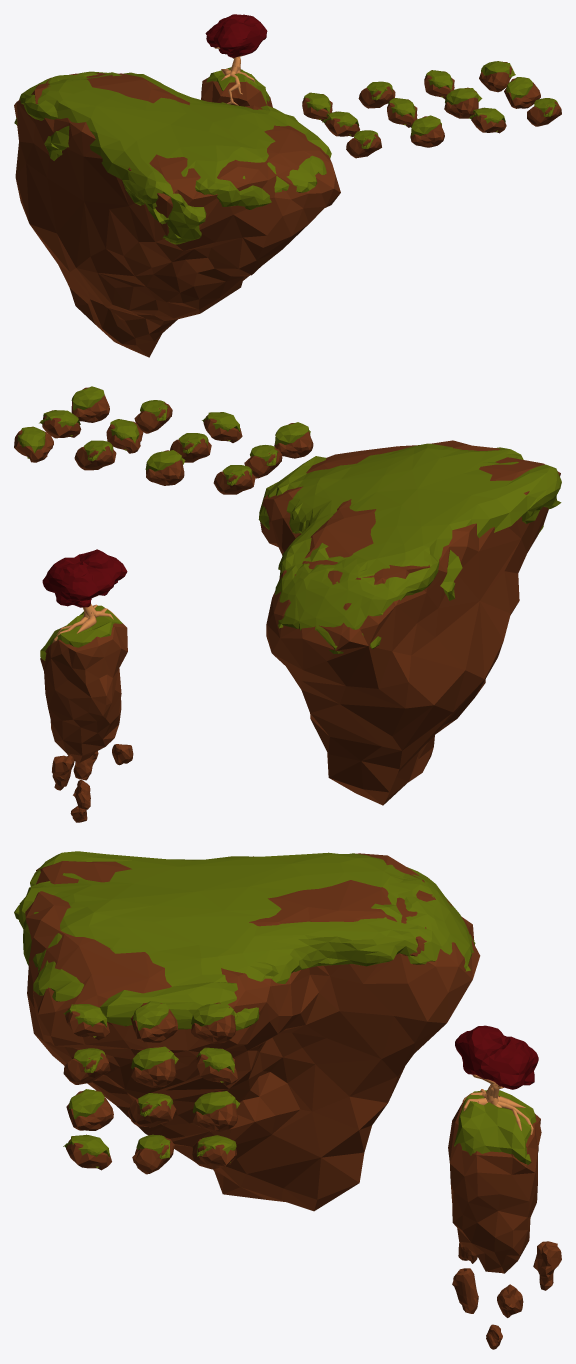
File: Due_Isola5.fbx
3 views of the same model, one above another, from view 1: azimuth 30°, elevation 25°; view 2: azimuth 150°, elevation 25°; view 3: azimuth 270°, elevation 25° (orthographic). The views are drawn at different scales.
Visible parts, largest first — view 1: Plane.033, Plane.032, Mball.013, Sphere.170, Sphere.169, Sphere.008, Sphere.012, Sphere.003, Sphere.020, Sphere.016, Sphere.004, NurbsPath.008 (+4 smaller); view 2: Plane.033, Plane.032, Sphere.170, Mball.013, Sphere.169, Sphere.039, Sphere.011, Sphere.008, NurbsPath.008, Sphere.016, Sphere.003, Sphere.164 (+9 smaller); view 3: Plane.033, Plane.032, Sphere.170, Sphere.169, Mball.013, Sphere.164, NurbsPath.008, Sphere.012, Sphere.007, Sphere.039, Sphere.011, Sphere.004 (+16 smaller).
Part boxes in pixels (x1,y1,x2,y2): Plane.033: [14, 72, 340, 357]; Plane.032: [14, 71, 331, 244]; Mball.013: [205, 14, 267, 57]; Sphere.170: [201, 77, 272, 107]; Sphere.169: [206, 67, 270, 104]; Sphere.008: [358, 86, 395, 108]; Sphere.012: [444, 87, 478, 118]; Sphere.003: [346, 134, 381, 158]; Sphere.020: [479, 61, 511, 92]; Sphere.016: [527, 101, 561, 126]; Sphere.004: [410, 116, 444, 147]; NurbsPath.008: [214, 47, 254, 105]; Plane.033: [260, 440, 560, 805]; Plane.032: [258, 443, 561, 653]; Sphere.170: [40, 623, 127, 762]; Mball.013: [42, 549, 127, 607]; Sphere.169: [40, 605, 122, 660]; Sphere.039: [213, 470, 255, 494]; Sphere.011: [74, 446, 116, 470]; Sphere.008: [146, 450, 184, 485]; NurbsPath.008: [53, 595, 119, 642]; Sphere.016: [71, 387, 109, 422]; Sphere.003: [274, 423, 313, 458]; Sphere.164: [52, 755, 74, 790]; Plane.033: [25, 853, 480, 1211]; Plane.032: [14, 851, 475, 1030]; Sphere.170: [448, 1100, 541, 1273]; Sphere.169: [454, 1090, 536, 1164]; Mball.013: [455, 1025, 538, 1089]; Sphere.164: [533, 1241, 561, 1290]; NurbsPath.008: [462, 1074, 533, 1134]; Sphere.012: [128, 1099, 176, 1127]; Sphere.007: [131, 1046, 176, 1087]; Sphere.039: [191, 1002, 235, 1043]; Sphere.011: [193, 1091, 237, 1131]; Sphere.004: [63, 1053, 110, 1084].
Size of the model in its own units: 503 by 293 by 427.
